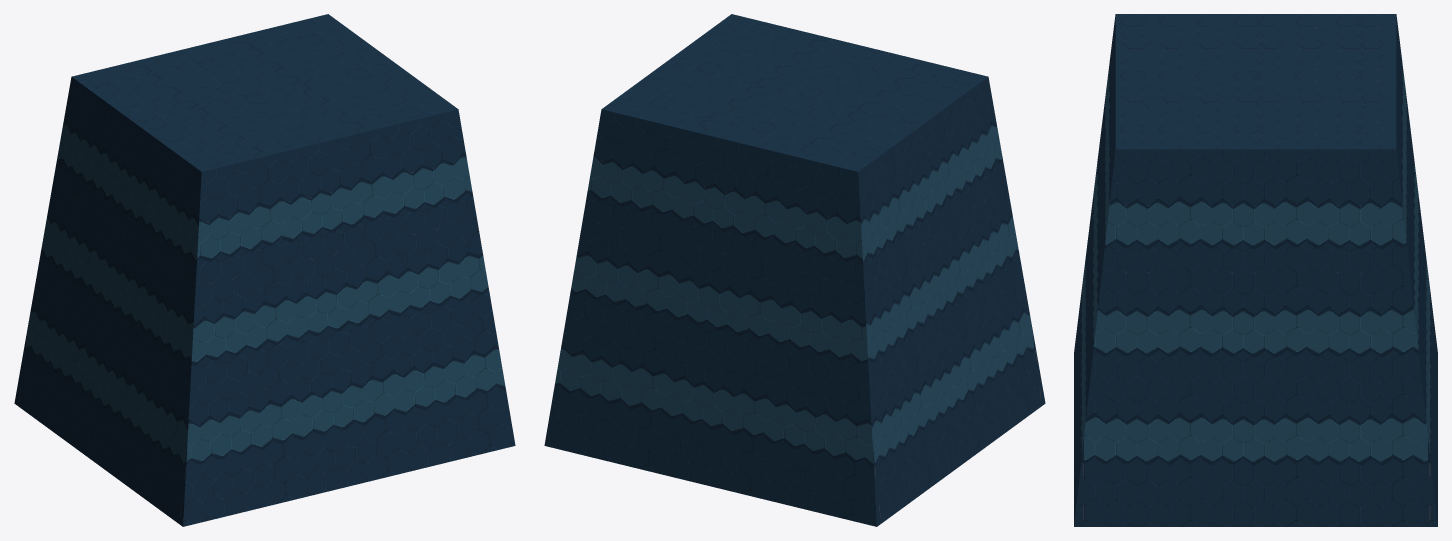
The model's file is edificio_sobrenatural_1.fbx.
3 views of the same model, side by side, from view 1: azimuth 30°, elevation 25°; view 2: azimuth 150°, elevation 25°; view 3: azimuth 270°, elevation 25° (orthographic). The views are drawn at different scales.
Visible parts, largest first — view 1: Edificio low poly; view 2: Edificio low poly; view 3: Edificio low poly.
Boxes of the visible parts, x1,y1,x2,y2 form: Edificio low poly: [14, 14, 515, 526]; Edificio low poly: [544, 14, 1045, 526]; Edificio low poly: [1074, 14, 1437, 526].
Size of the model in its own units: 95.98 by 91.5 by 84.29.
